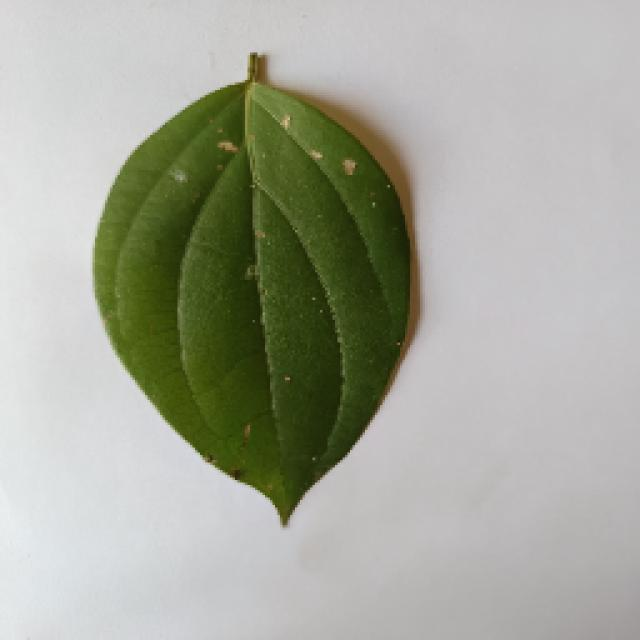pollu-disease: (75, 52, 417, 518)
